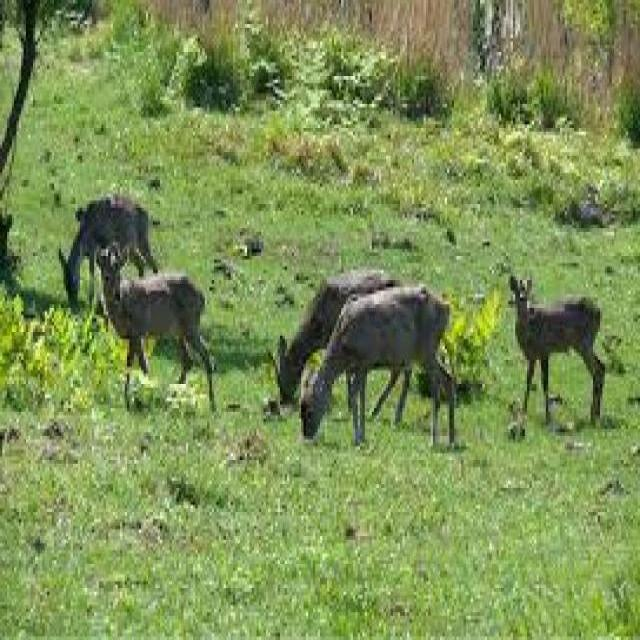deer: (294, 283, 468, 449), (86, 245, 222, 408), (502, 260, 610, 423), (56, 166, 159, 242)
